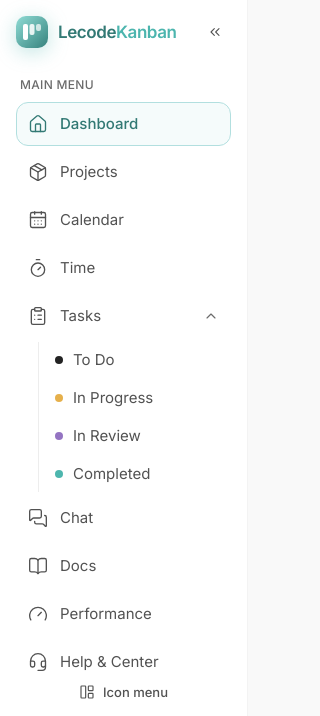
Sidebar › collapses to icons only
Click the button named "Collapse sidebar" at [215, 32], box [199,16,231,48]
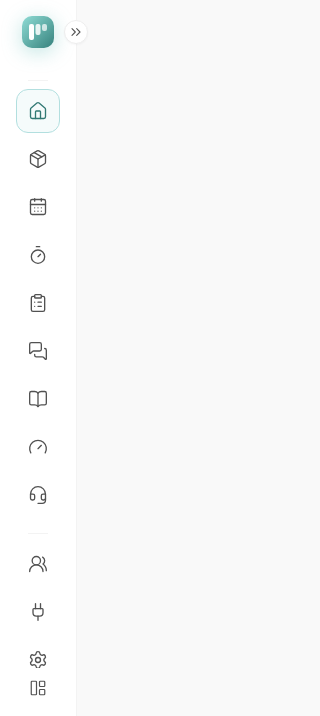
Expected: the button named "Expand sidebar" is collapsed, [64,20,88,44]
Expected: the link "In Review" is gone
